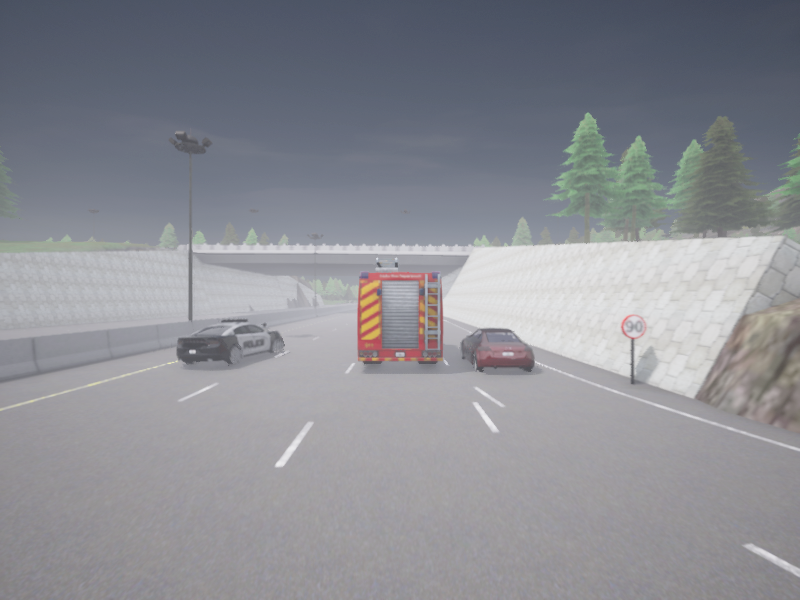vehicle: (357, 258, 442, 364), (177, 319, 283, 364), (461, 328, 534, 370)
